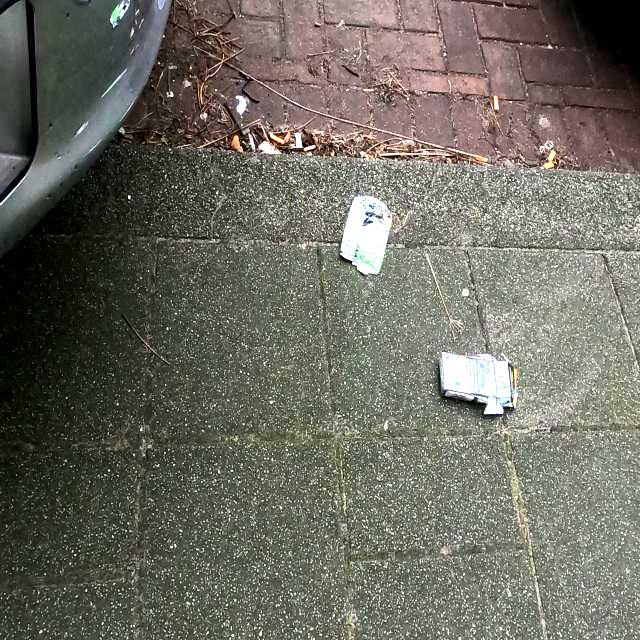Metal: (338, 193, 394, 277)
Paper: (438, 349, 518, 417)
